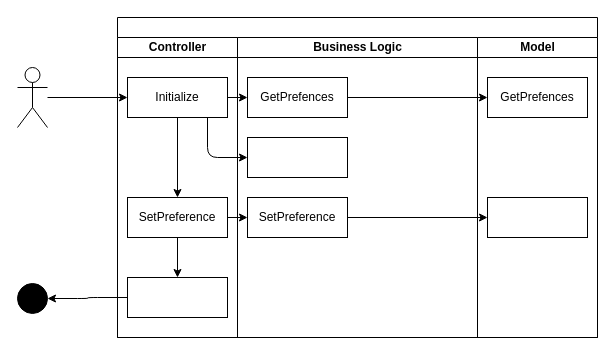
Image size: 615x355. Some labels were removed from this diagram. Each missing label, with the centre of its shape:
BuildForm: (x=297, y=157)
ShowPreference: (x=177, y=297)
UpdatePreference: (x=537, y=217)
User: (x=32, y=97)
